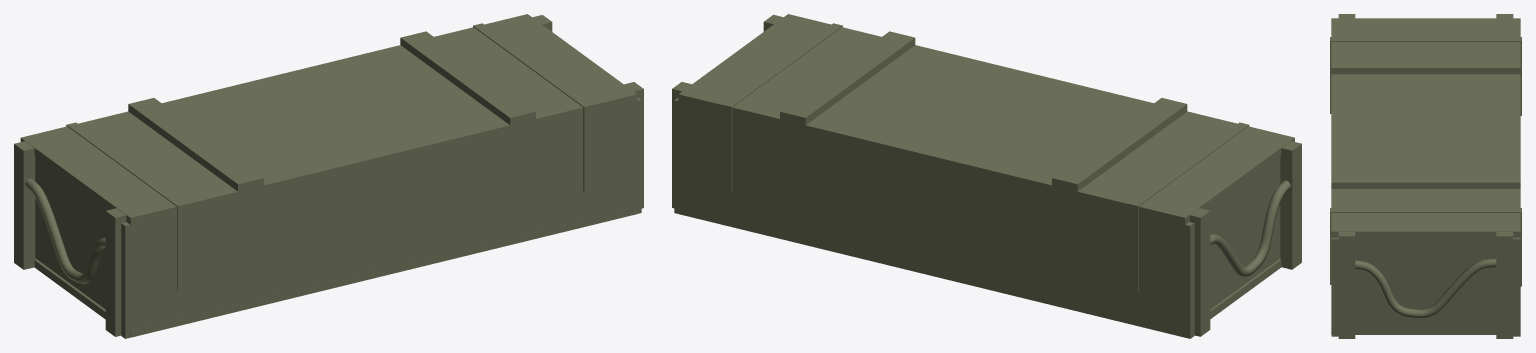
Rendered from crate.glb.
3 renders of one model, left to right at view 1: azimuth 30°, elevation 25°; view 2: azimuth 150°, elevation 25°; view 3: azimuth 270°, elevation 25°, orthographic. The views are drawn at different scales.
Visible parts, largest first — view 1: crate; view 2: crate; view 3: crate.
Boxes of the visible parts, x1,y1,x2,y2 form: crate: (14,14,643,338); crate: (672,14,1301,338); crate: (1330,14,1521,338).
Bounding box in the file's own units: 0.9 × 0.207 × 0.3281.
